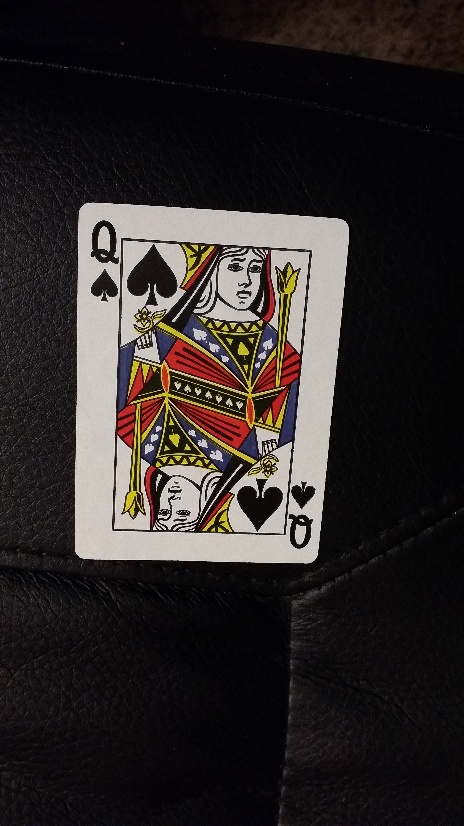Sq: (87, 215, 123, 305), (289, 477, 317, 553)
